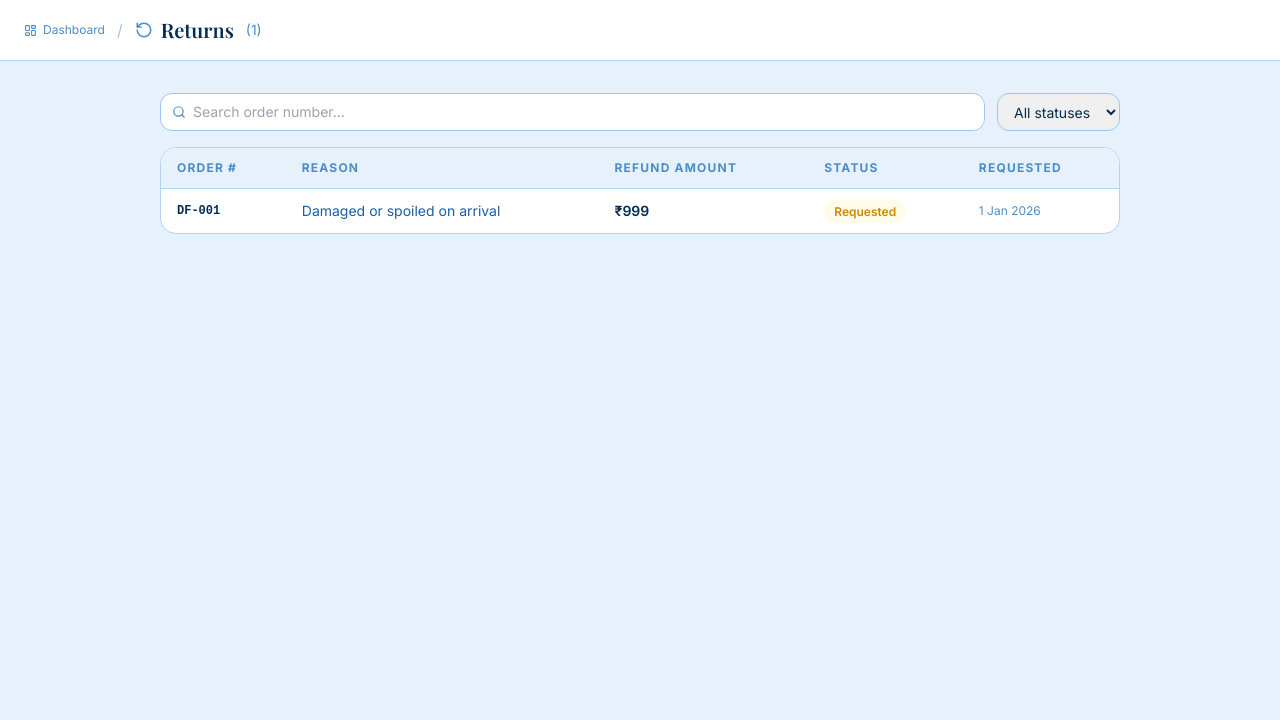
AdminReturnsPage › opens the detail modal and shows the requested items and reason
Click the text "DF-001" at (199, 211), box [161,188,286,233]
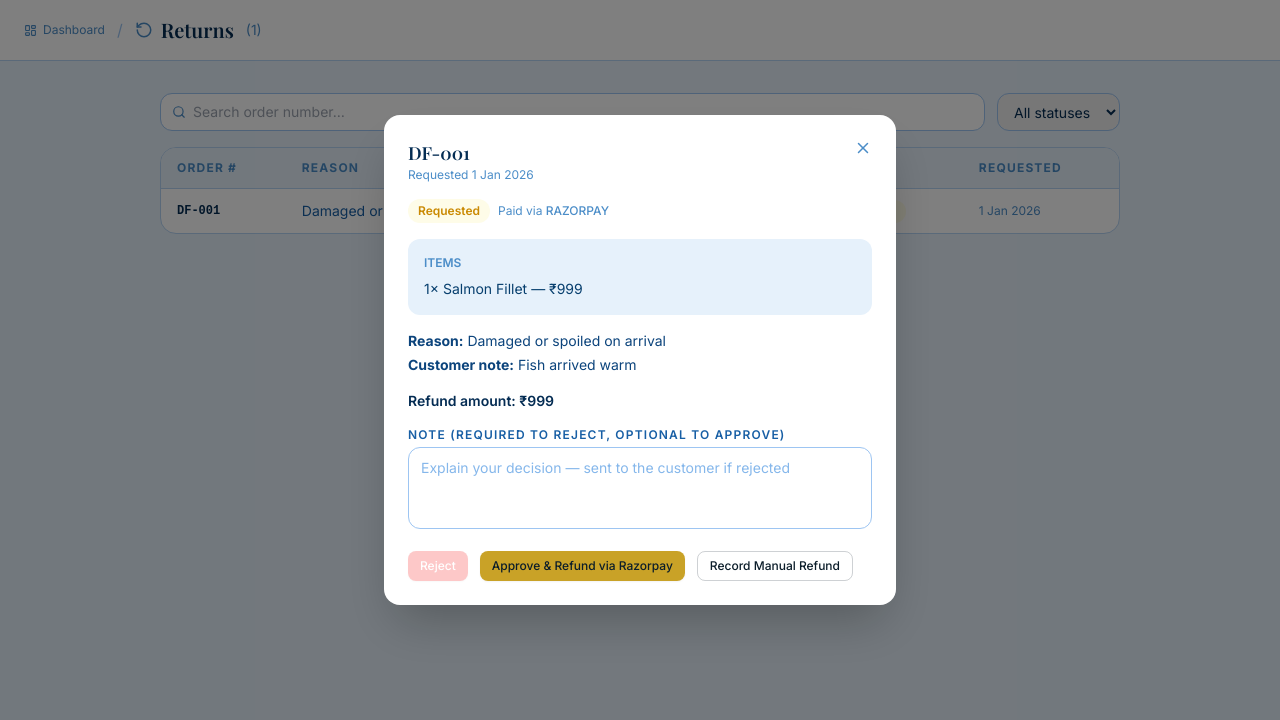
Expected: the list item "1× Salmon Fillet — ₹999" is shown, [424,280,583,297]
Expected: the text "Customer note: Fish arrived warm" is shown, [408,356,637,373]
Expected: the text "Refund amount: ₹999" is shown, [408,392,554,409]
